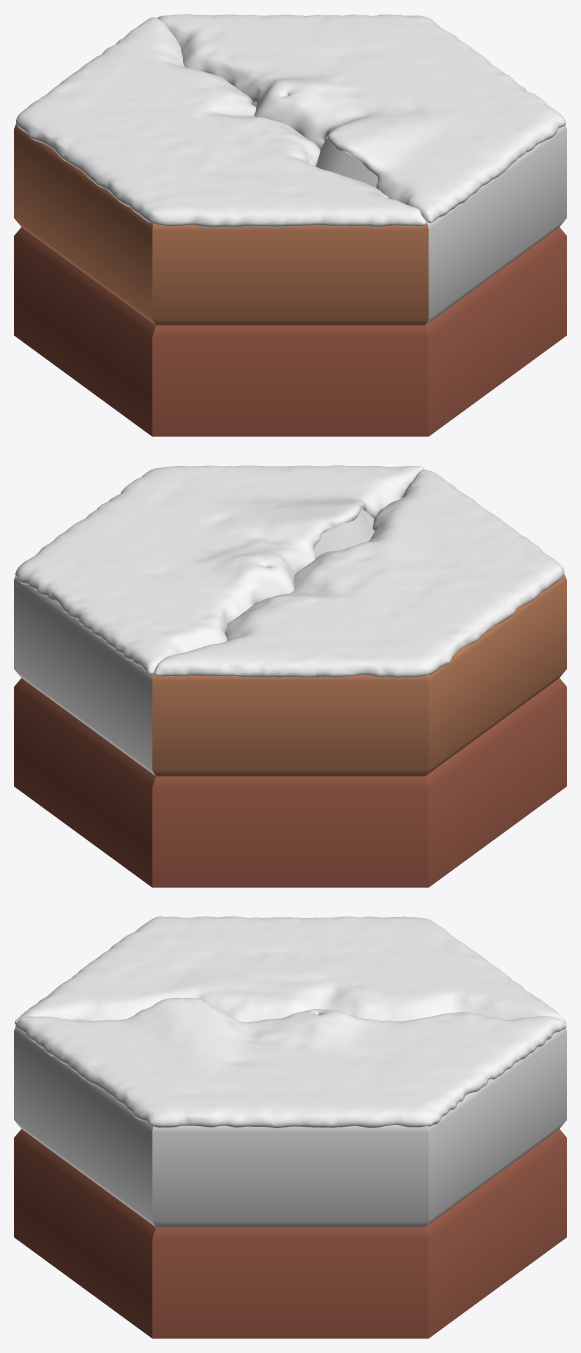
The model's file is hex_rock_transitionB.fbx.
3 views of the same model, one above another, from view 1: azimuth 30°, elevation 25°; view 2: azimuth 150°, elevation 25°; view 3: azimuth 270°, elevation 25° (orthographic).
Parts seen in each view (by area): view 1: hex_rock_transitionB.002, SnowBall.002, SnowBall.001, hex_rock_transitionB, hex_rock_transitionB.001; view 2: hex_rock_transitionB.002, SnowBall.002, SnowBall.001, hex_rock_transitionB, hex_rock_transitionB.001; view 3: hex_rock_transitionB.002, hex_rock_transitionB.001, SnowBall.002, SnowBall.001.
Part boxes in pixels (x1,y1,x2,y2): hex_rock_transitionB.002: (14, 227, 566, 436); SnowBall.002: (157, 14, 565, 222); SnowBall.001: (16, 17, 426, 228); hex_rock_transitionB: (14, 104, 428, 325); hex_rock_transitionB.001: (252, 103, 566, 324); hex_rock_transitionB.002: (14, 678, 566, 887); SnowBall.002: (15, 465, 424, 675); SnowBall.001: (153, 470, 564, 678); hex_rock_transitionB: (152, 574, 566, 776); hex_rock_transitionB.001: (14, 497, 402, 775); hex_rock_transitionB.002: (14, 1129, 566, 1338); hex_rock_transitionB.001: (14, 1026, 566, 1227); SnowBall.002: (15, 997, 566, 1128); SnowBall.001: (14, 916, 566, 1024).
Size of the model in its own units: 202 by 109 by 231.
